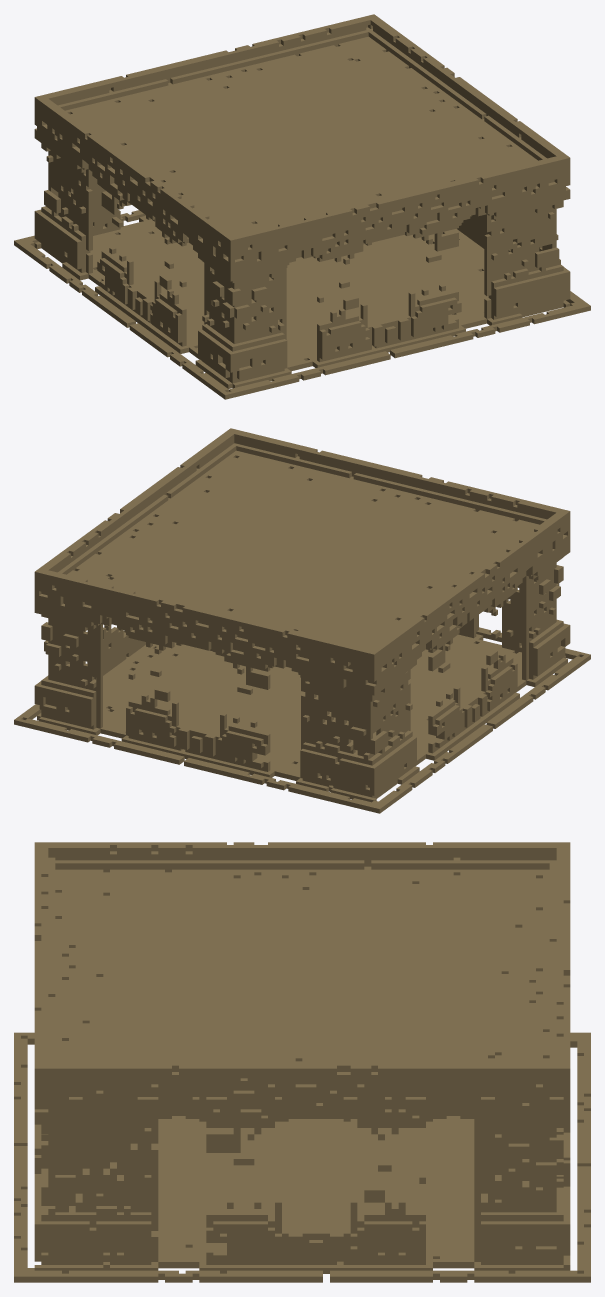
File: desertbuilding-0.obj
3 views of the same model, one above another, from view 1: azimuth 30°, elevation 25°; view 2: azimuth 150°, elevation 25°; view 3: azimuth 270°, elevation 25° (orthographic). The views are drawn at different scales.
Bounding box in the file's own units: 8.4 × 3.3 × 8.4.
Materials: 1 (1 with a texture image).
